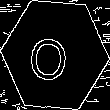O_N: (34, 28, 76, 82)
